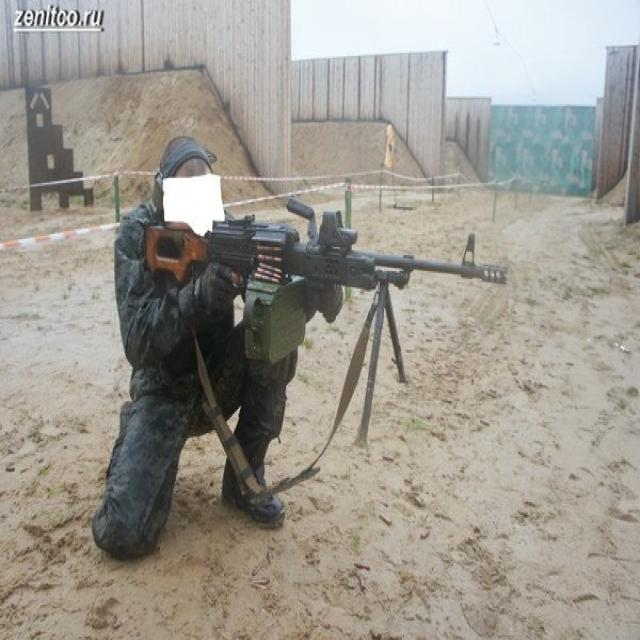firearm: (150, 195, 508, 362)
